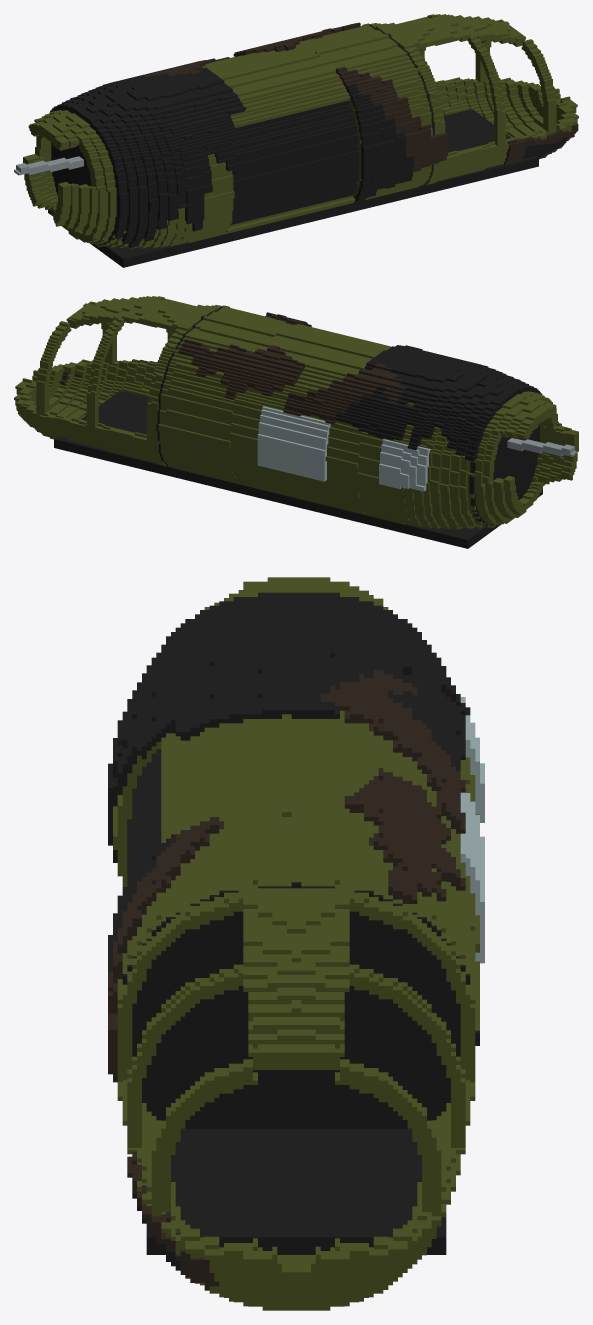
The model's file is crashed_military_helicopter_fuselage.glb.
3 views of the same model, one above another, from view 1: azimuth 30°, elevation 25°; view 2: azimuth 150°, elevation 25°; view 3: azimuth 270°, elevation 25° (orthographic). The views are drawn at different scales.
Parts seen in each view (by area): view 1: body:compound; view 2: body:compound; view 3: body:compound.
Part boxes in pixels (x1,y1,x2,y2): body:compound: (14, 14, 578, 267); body:compound: (14, 296, 578, 548); body:compound: (108, 577, 484, 1310).
Bounding box in the file's own units: 8.16 × 2.09 × 2.44.
